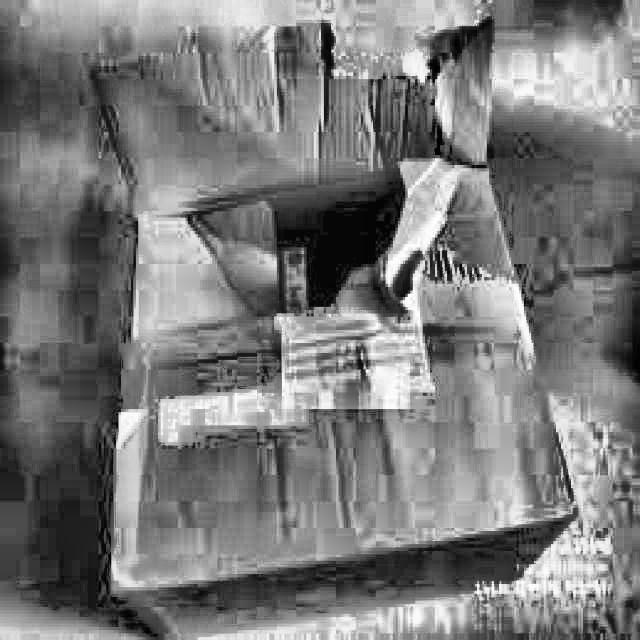box: (42, 28, 593, 616)
hole: (248, 153, 416, 318)
